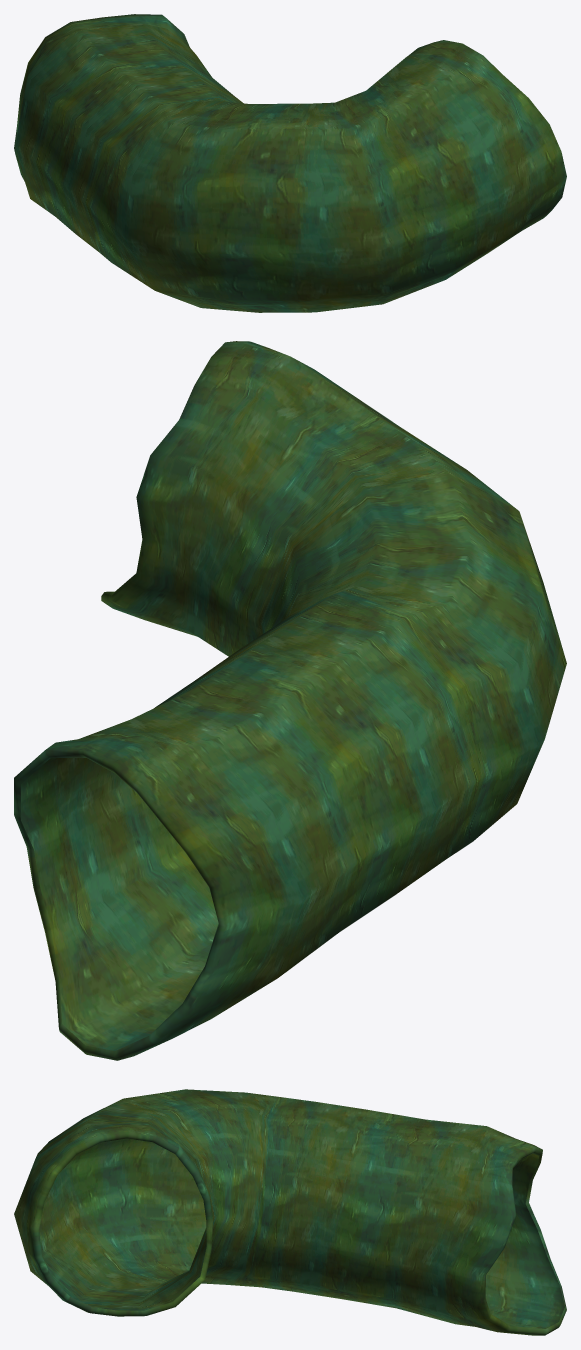
Rendered from MIRKWOOD_MIRK_PLAYSURFACE80.fbx.
3 views of the same model, one above another, from view 1: azimuth 30°, elevation 25°; view 2: azimuth 150°, elevation 25°; view 3: azimuth 270°, elevation 25° (orthographic). The views are drawn at different scales.
Visible parts, largest first — view 1: MIRKWOOD_MIRK_PLAYSURFACE80; view 2: MIRKWOOD_MIRK_PLAYSURFACE80; view 3: MIRKWOOD_MIRK_PLAYSURFACE80.
Boxes of the visible parts, x1=… form: MIRKWOOD_MIRK_PLAYSURFACE80: x1=14, y1=14, x2=566, y2=312; MIRKWOOD_MIRK_PLAYSURFACE80: x1=14, y1=341, x2=566, y2=1060; MIRKWOOD_MIRK_PLAYSURFACE80: x1=14, y1=1089, x2=566, y2=1335.
Size of the model in its own units: 98454 by 78843 by 150386.
Materials: 1 (1 with a texture image).
